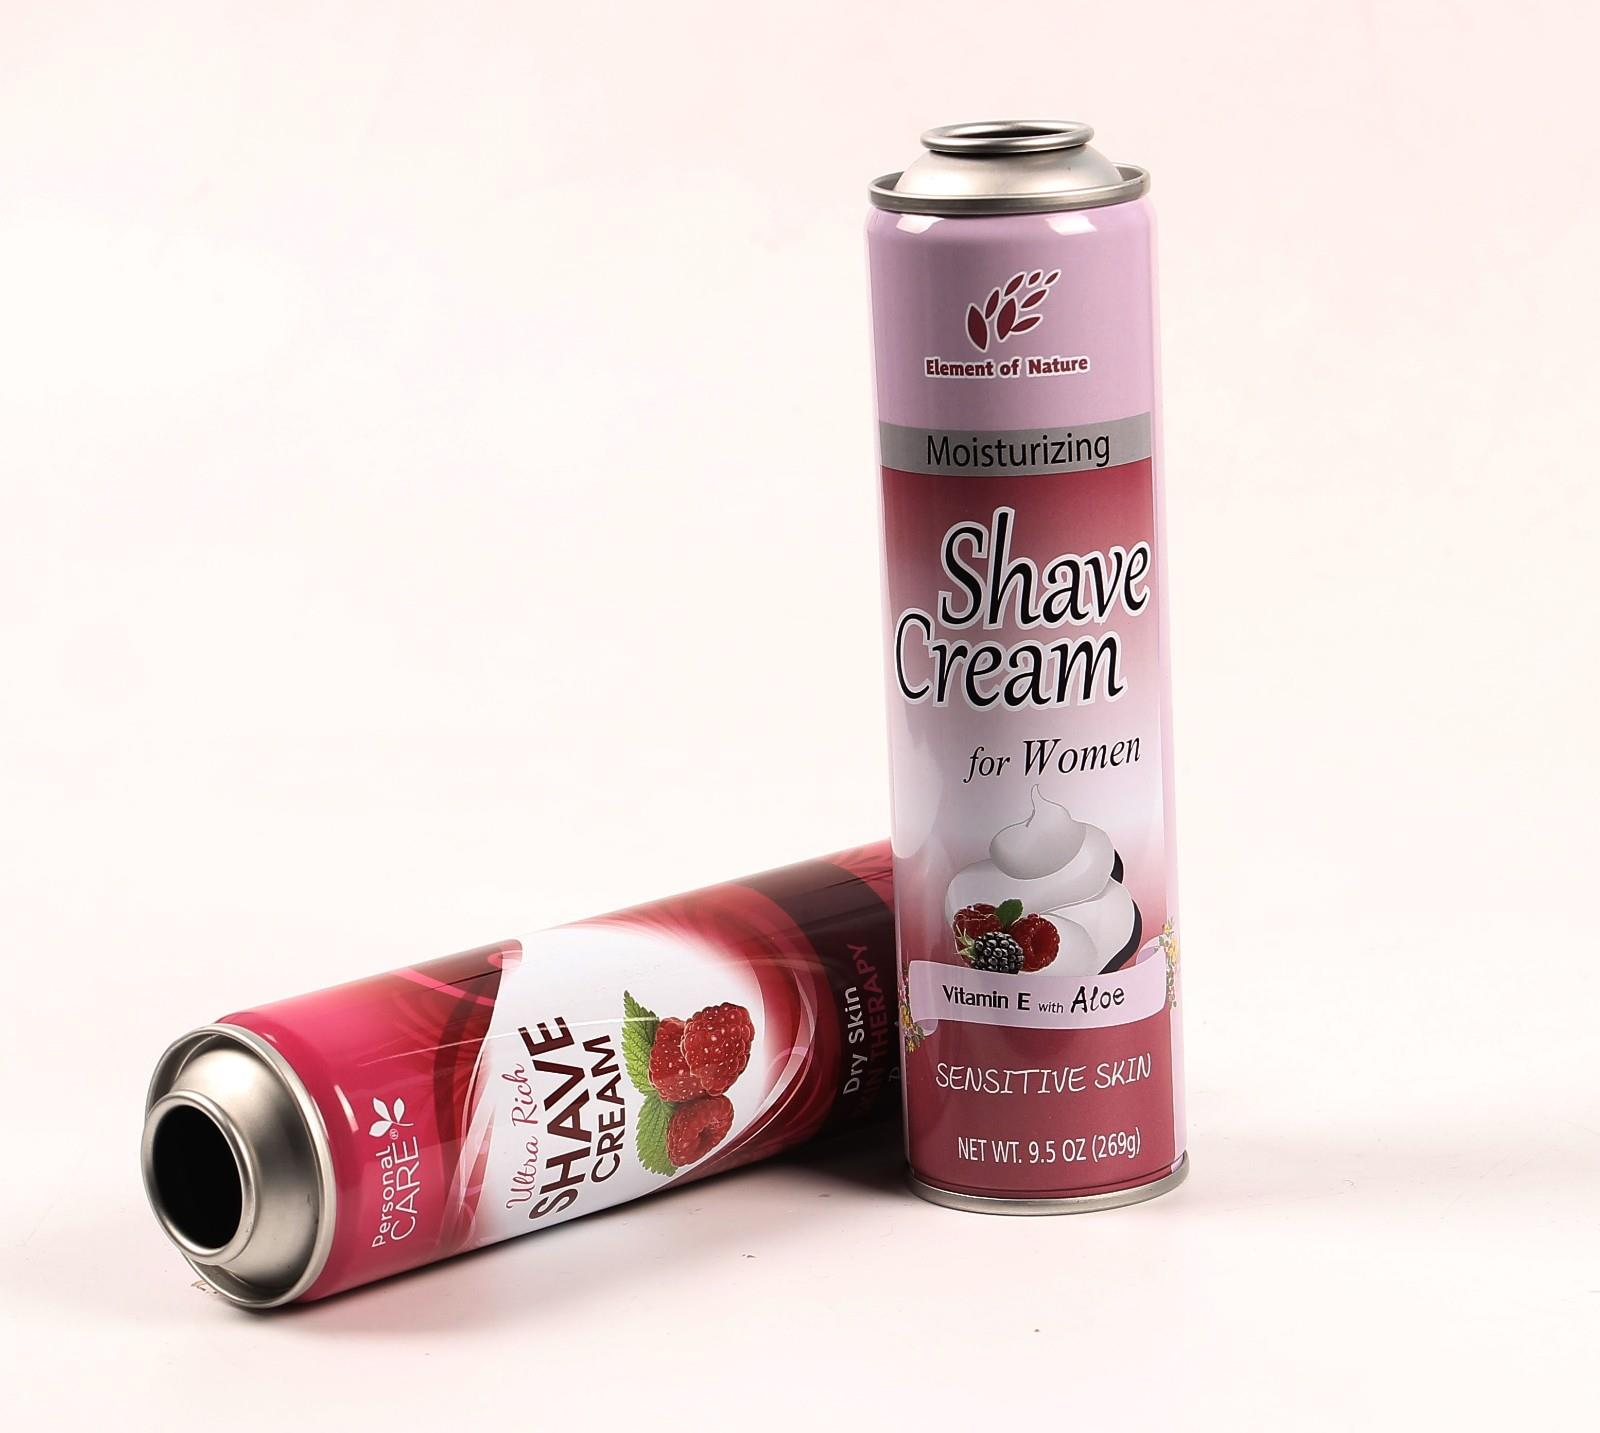Aerosol_cans: (133, 824, 909, 1328), (857, 115, 1203, 1216)
